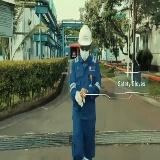Helmet: (78, 25, 93, 45)
